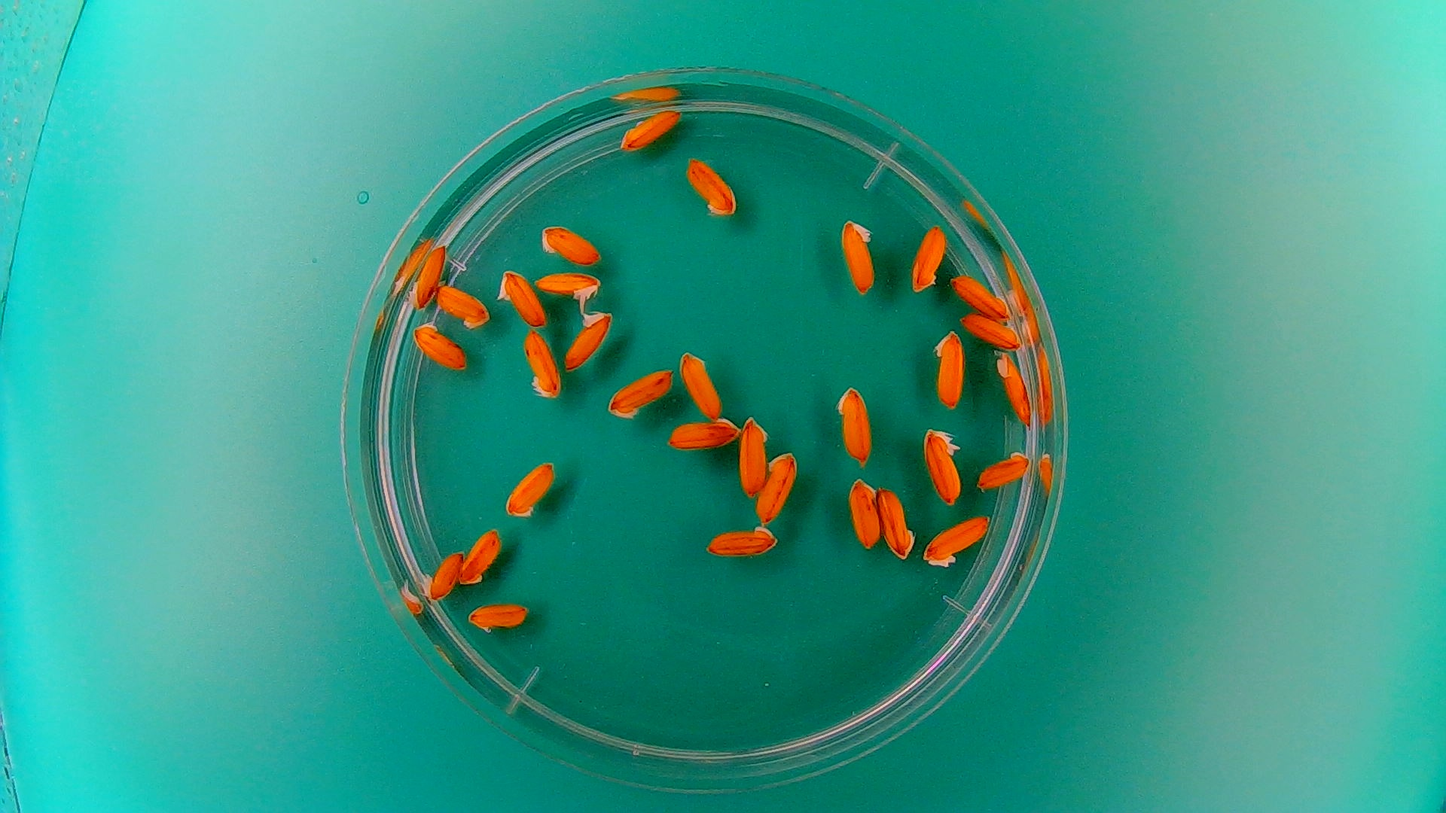no: (921, 510, 994, 570), (604, 364, 676, 420), (683, 154, 739, 218), (834, 382, 876, 467), (754, 448, 800, 525), (502, 457, 558, 520), (734, 414, 775, 500), (678, 348, 725, 421), (561, 308, 615, 371), (496, 266, 549, 329), (410, 317, 469, 372), (617, 105, 684, 153), (520, 326, 563, 400), (535, 221, 604, 267), (993, 350, 1034, 427), (877, 484, 917, 562), (839, 216, 877, 296), (700, 522, 781, 559), (950, 272, 1011, 321), (457, 523, 503, 587), (931, 327, 966, 410), (435, 280, 492, 330), (908, 221, 947, 294), (664, 416, 742, 452), (407, 242, 446, 311), (958, 309, 1023, 350), (845, 475, 880, 551), (465, 598, 532, 635), (975, 447, 1031, 491), (426, 546, 465, 602)
yes: (921, 424, 965, 506), (531, 268, 604, 308)
